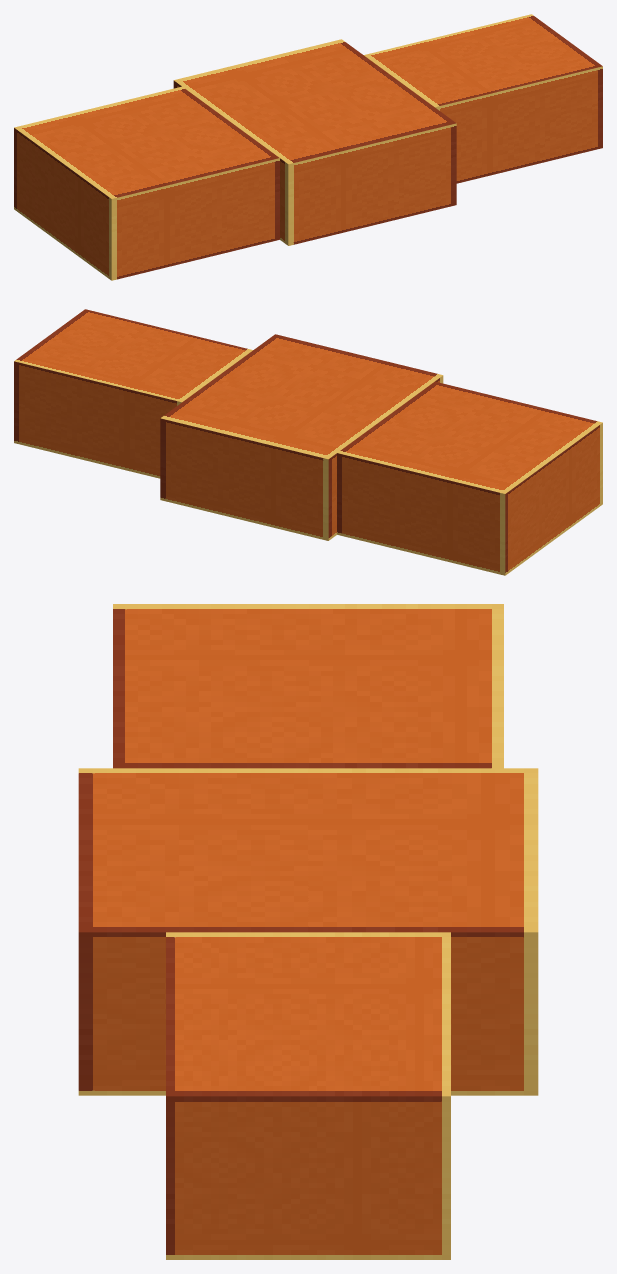
File: bench_zhuji_baiqing_lingyun_spear_0_hot.obj
3 views of the same model, one above another, from view 1: azimuth 30°, elevation 25°; view 2: azimuth 150°, elevation 25°; view 3: azimuth 270°, elevation 25° (orthographic). The views are drawn at different scales.
Parts seen in each view (by area): view 1: geometry; view 2: geometry; view 3: geometry.
Boxes of the visible parts, x1,y1,x2,y2 form: geometry: (14,14,602,280); geometry: (14,309,602,575); geometry: (78,604,538,1259).
Size of the model in its own units: 0.75 by 0.1161 by 0.2959.
